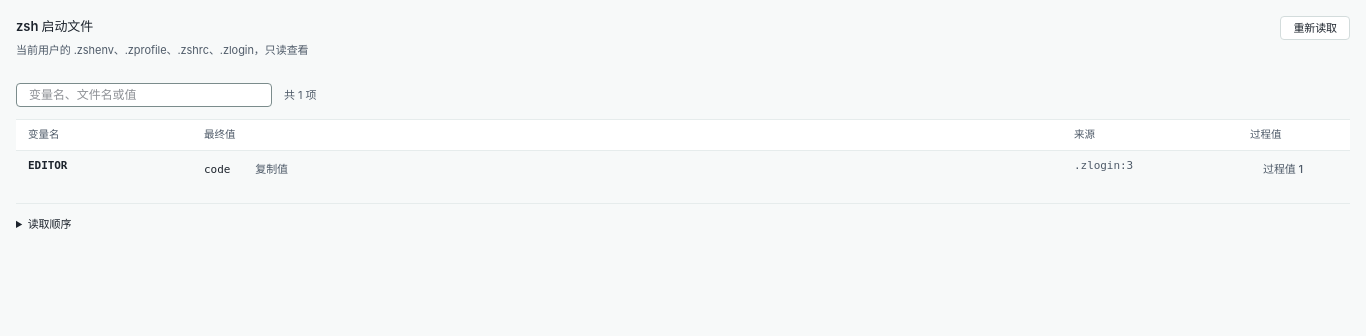
Test: zsh view: a name assigned in more than one file › gives a same-scope replacement one row, with the earlier value as its process value
Expected: the text "EDITOR" is shown once, [28,157,67,174]
Expected: the text "vim" is not shown
Click the button "过程值 1": (1283, 169) [1250,157,1316,181]
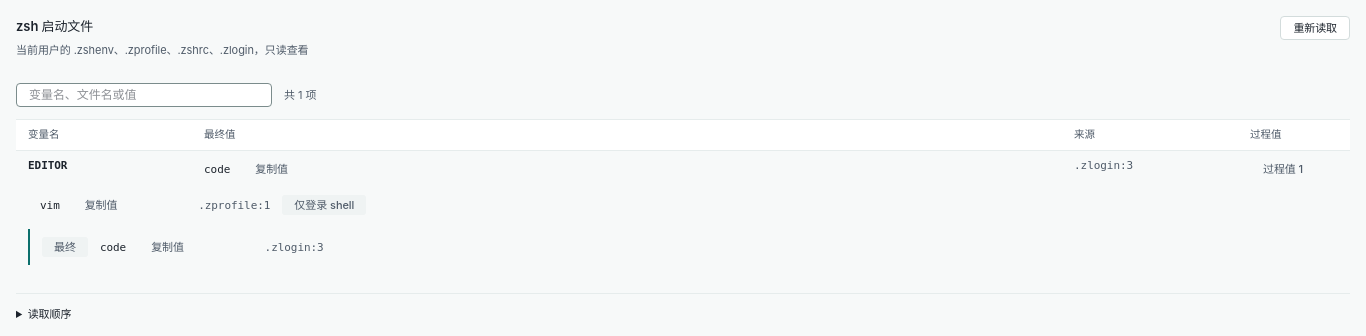
Expected: the text ".zprofile:1" is shown, [198,196,270,214]
Expected: the text "vim" is shown, [40,196,60,214]
